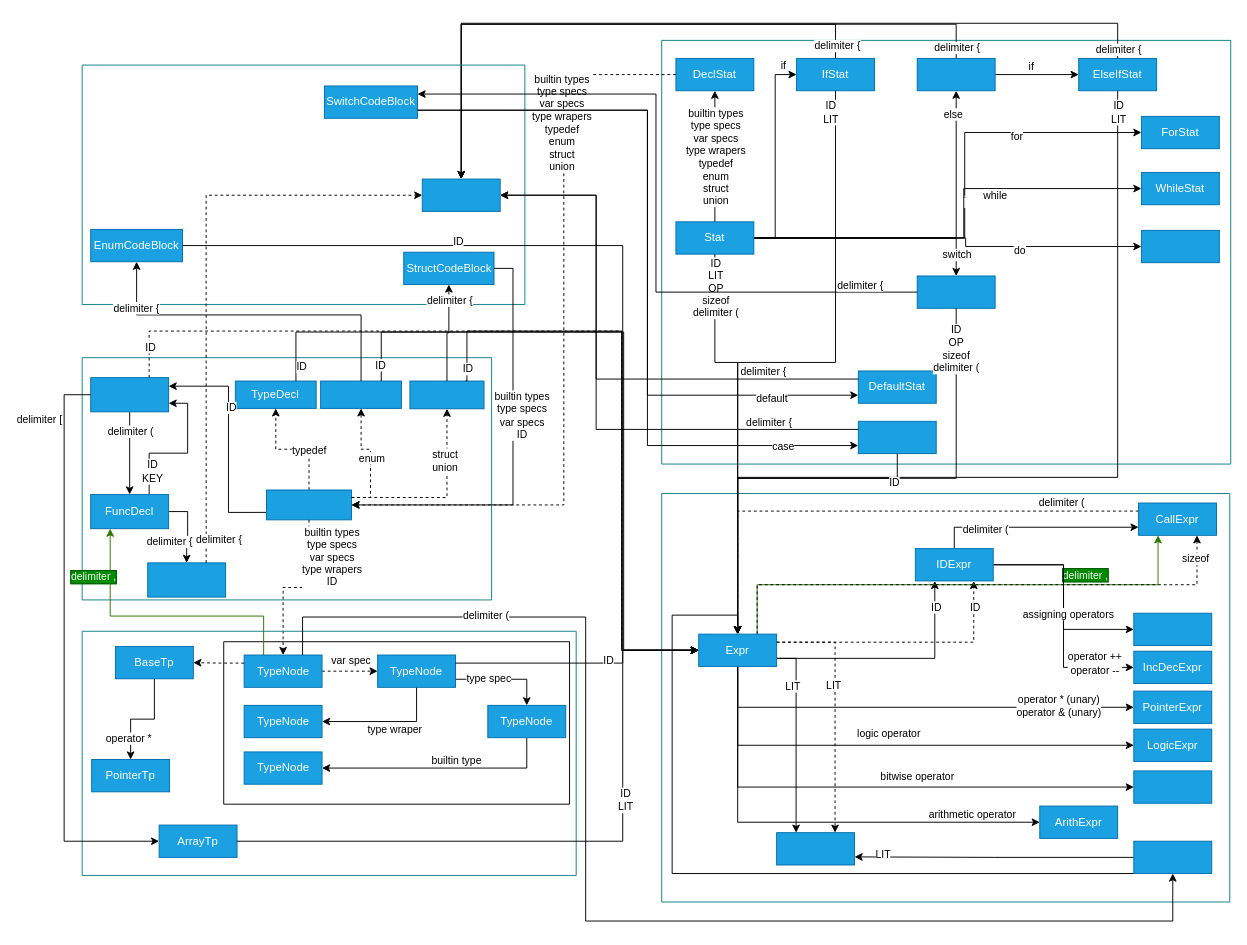
This 1247x945 diagram has some shape labels left out. Each missing label, with the centre of its shape:
"AssignExpr" goes at (x=1172, y=629).
"BitwiseExpr" goes at (x=1172, y=786).
"CaseStat" goes at (x=896, y=437).
"CastExpr" goes at (x=1172, y=857).
"CodeBlock" goes at (x=460, y=194).
"Decl" goes at (x=309, y=504).
"DoWhileStat" goes at (x=1179, y=246).
"ElseStat" goes at (x=955, y=74).
"EnumDecl" goes at (x=360, y=394).
"FuncDefDecl" goes at (x=186, y=579).
"LITExpr" goes at (x=815, y=848).
"StructDecl" goes at (x=446, y=394).
"SwitchStat" goes at (x=955, y=291).
"VarDecl" goes at (x=129, y=394).
